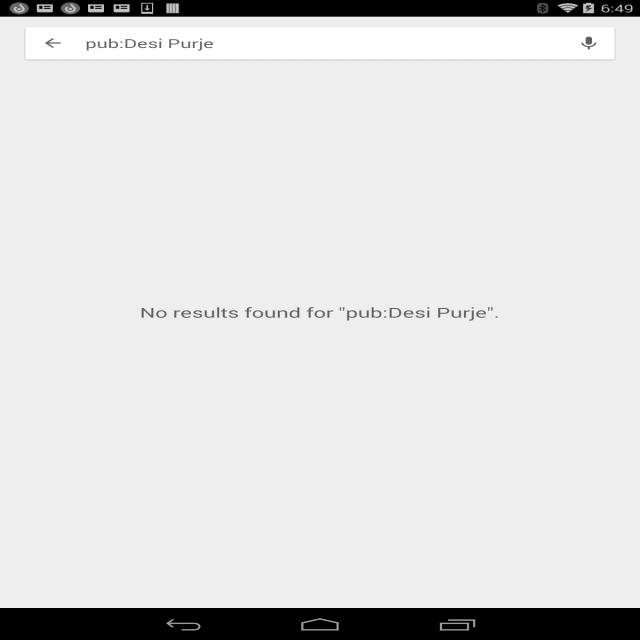ImageButton: (570, 33, 609, 53), (38, 35, 75, 53)
TextView: (130, 295, 506, 324), (84, 35, 215, 52)
